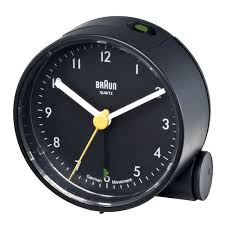alarm_clock: (12, 15, 211, 212), (19, 15, 211, 212), (19, 29, 211, 212)
